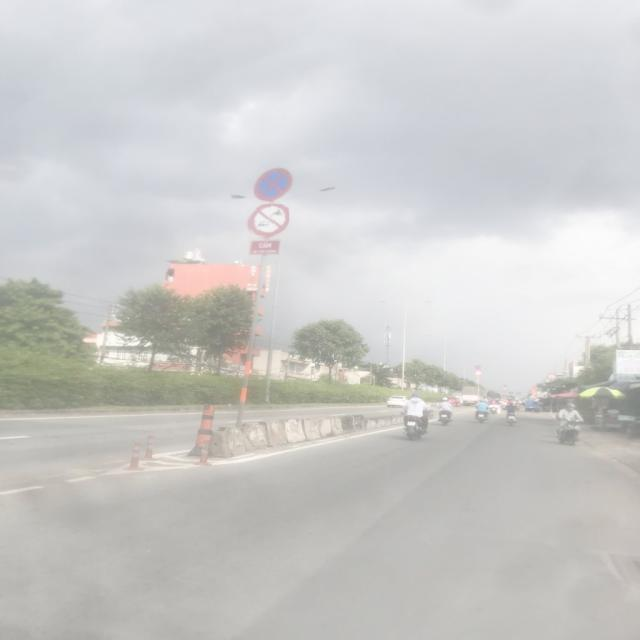cam_dung_xe_va_do_xe: (255, 168, 292, 202), (474, 364, 482, 370)
cam_o_to_tai_va_xe_khach: (548, 373, 556, 380)
cam_xe_2_banh_va_xe_3_banh_co_dong_co: (248, 204, 289, 238), (475, 370, 483, 376)
